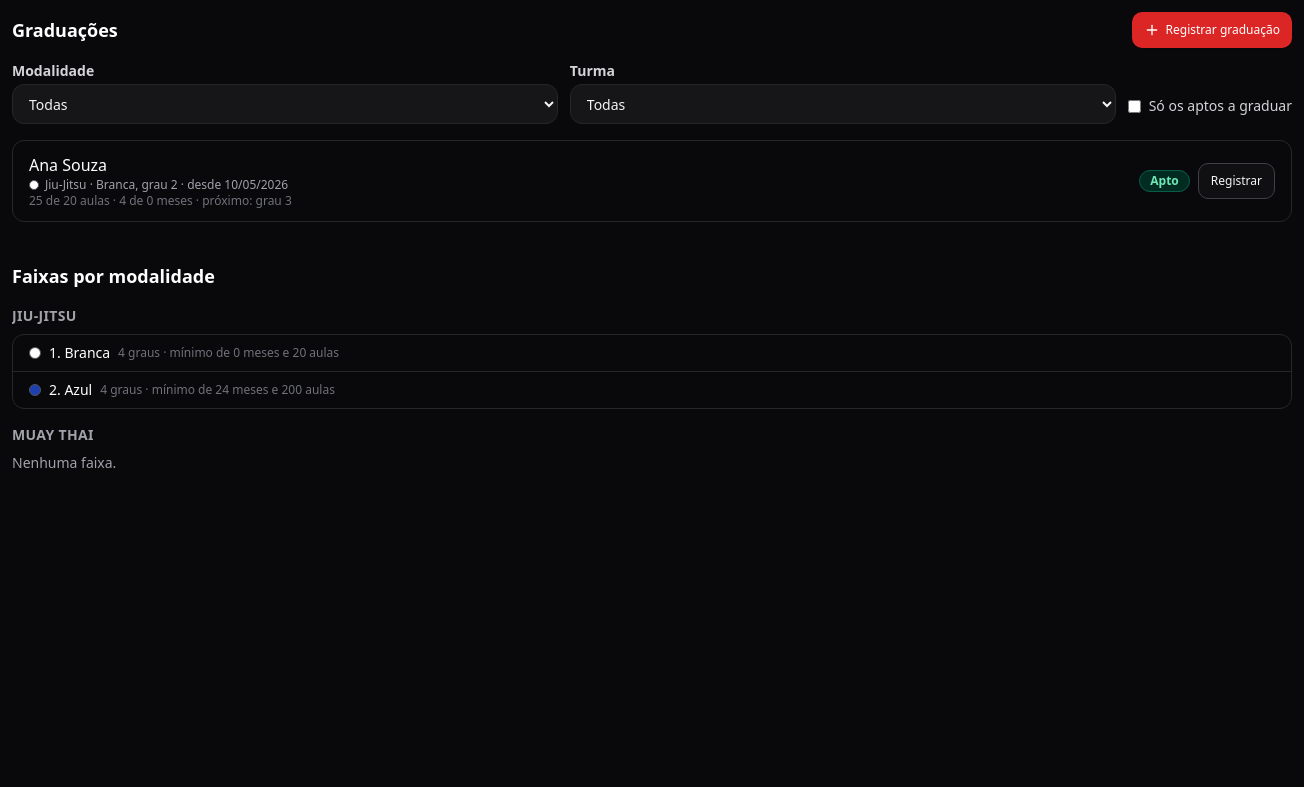
Test: Painel: graduações › erro do banco aparece no formulário
Click the button with aria-label "Registrar graduação de Ana Souza" at (1236, 181), box [1198,163,1275,199]
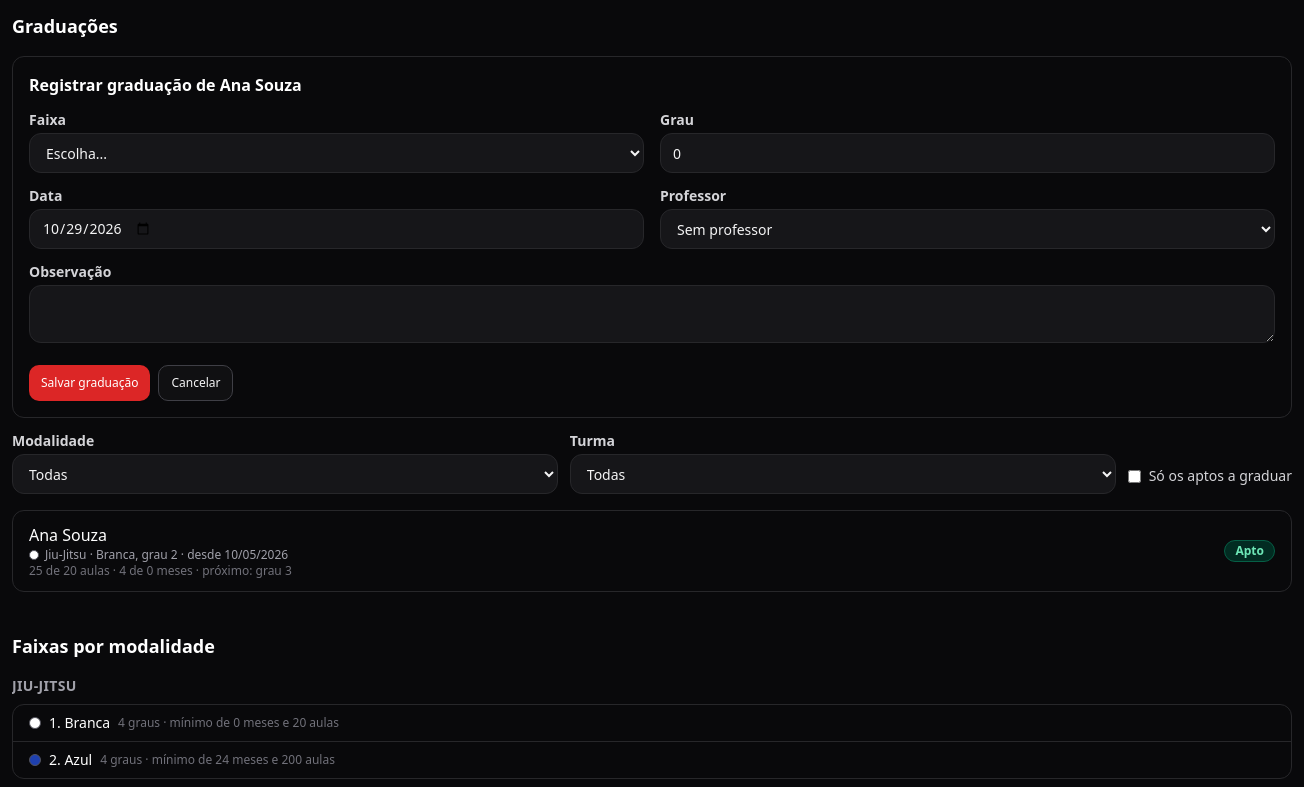
Select "Branca" in the dropdown labelled "Faixa" at (336, 153), box [29,133,644,173]
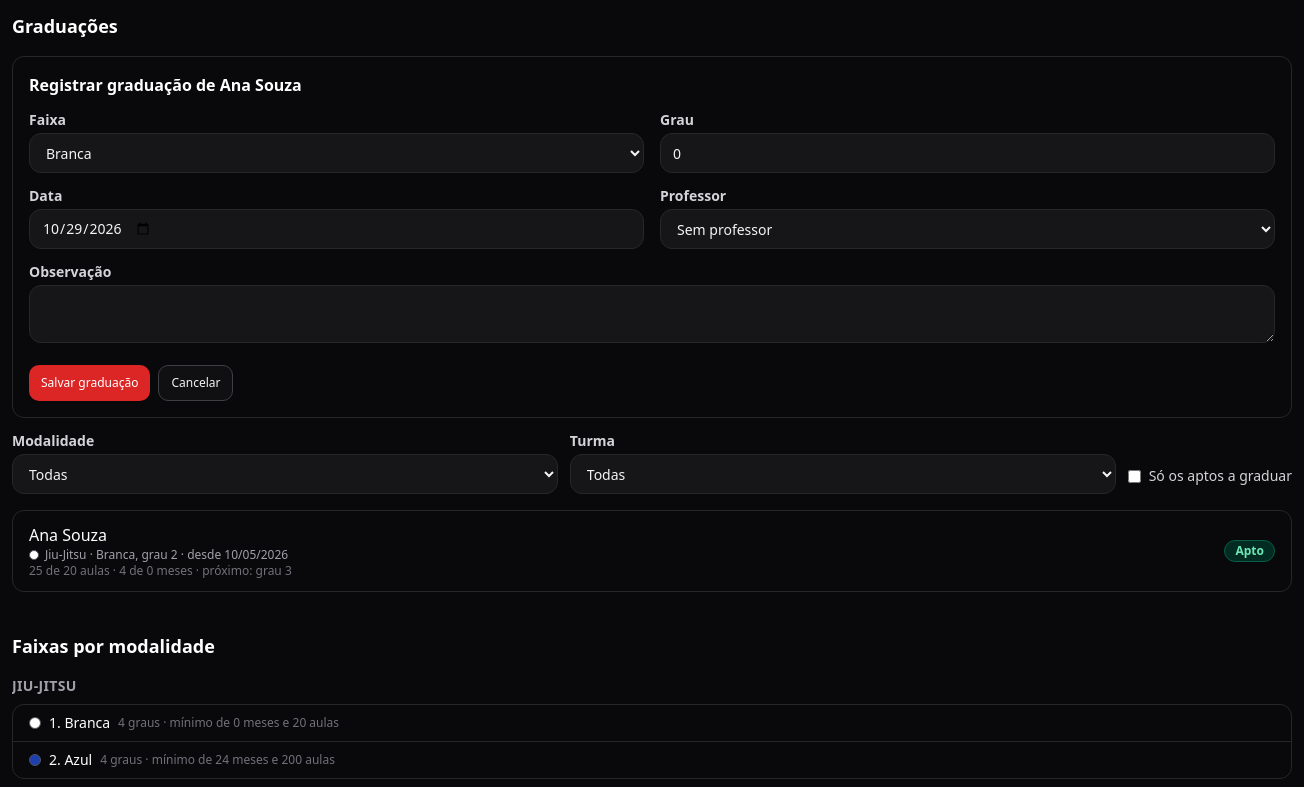
Click the button "Salvar graduação" at (90, 383), box [29,365,150,401]
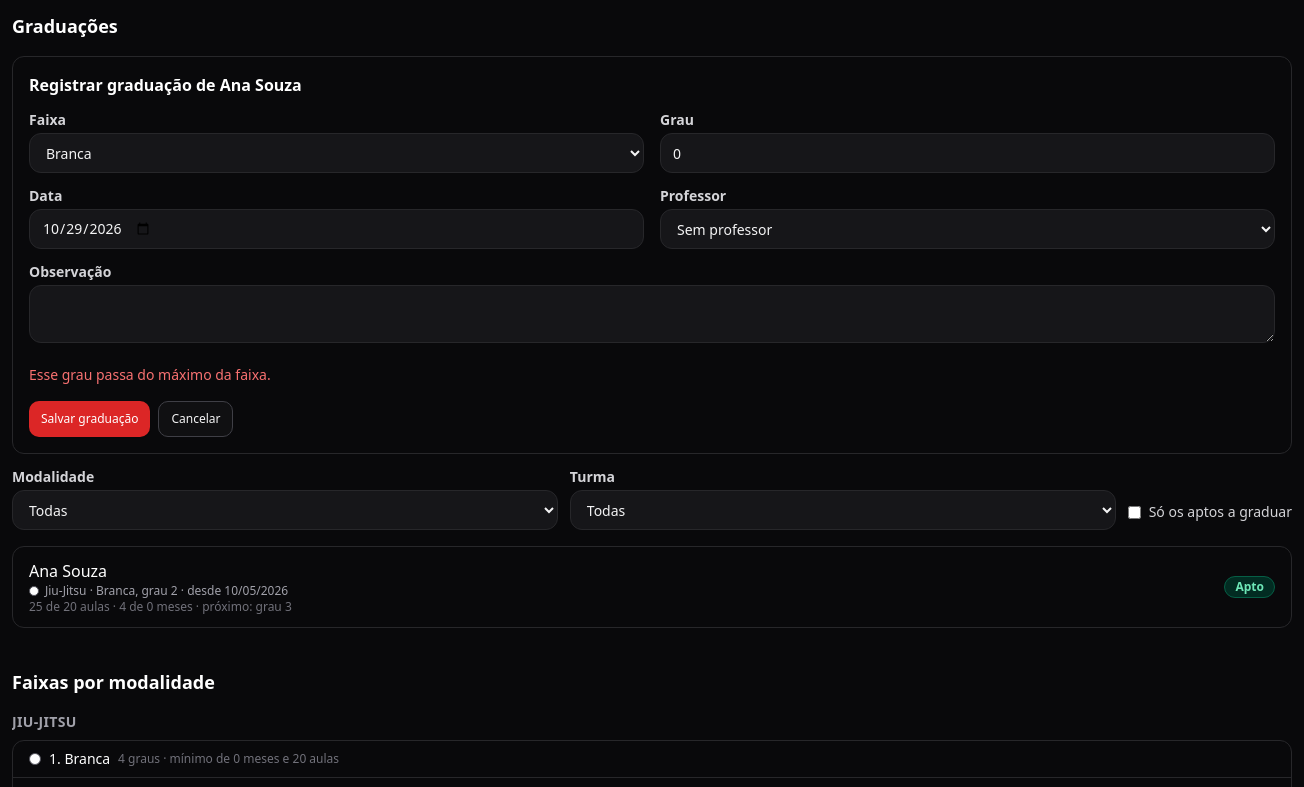
Check: the message reads "Esse grau passa do máximo da faixa.", box [29,365,271,384]
